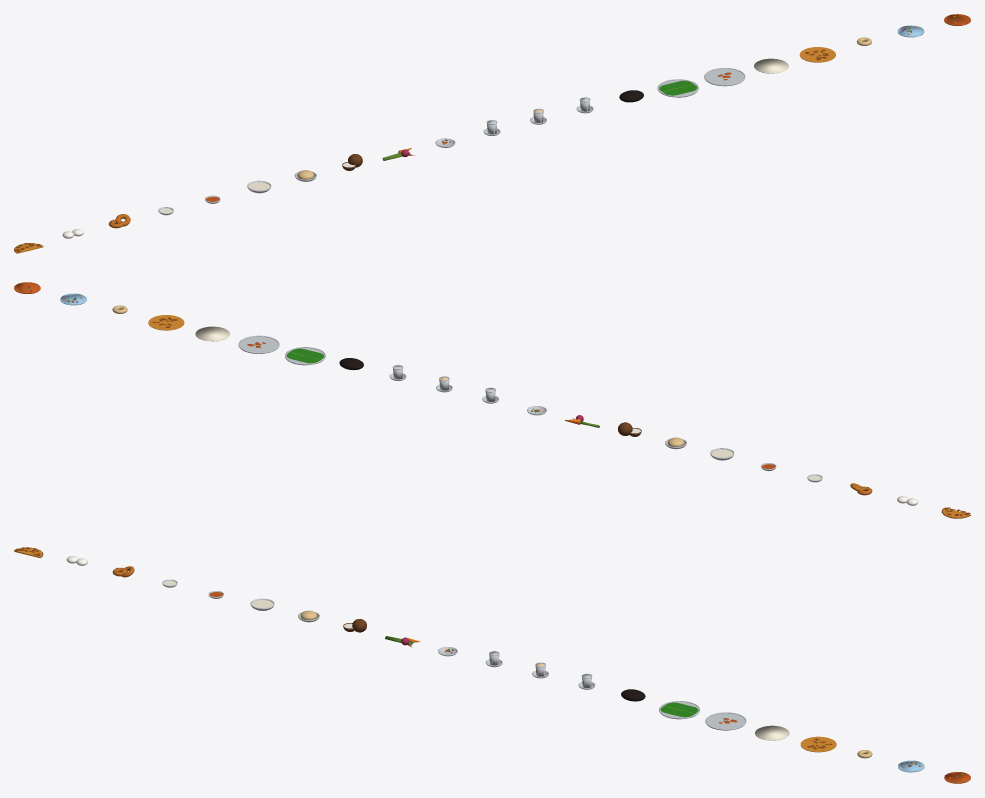
Rendered from food.glb.
The picture shows the model from 3 angles, top to bottom: view 1: azimuth 30°, elevation 25°; view 2: azimuth 150°, elevation 25°; view 3: azimuth 330°, elevation 25°; orthographic projection.
Visible parts, largest first — view 1: plate, dirty; view 2: dirty, plate; view 3: dirty, plate.
Part boxes in pixels (bbox=[...]): plate: bbox=[657, 79, 698, 97]; dirty: bbox=[704, 68, 745, 86]; dirty: bbox=[238, 335, 279, 353]; plate: bbox=[285, 347, 325, 365]; dirty: bbox=[705, 712, 746, 730]; plate: bbox=[659, 701, 699, 719].
Size of the model in its own units: 16.44 by 0.2149 by 0.6158.
